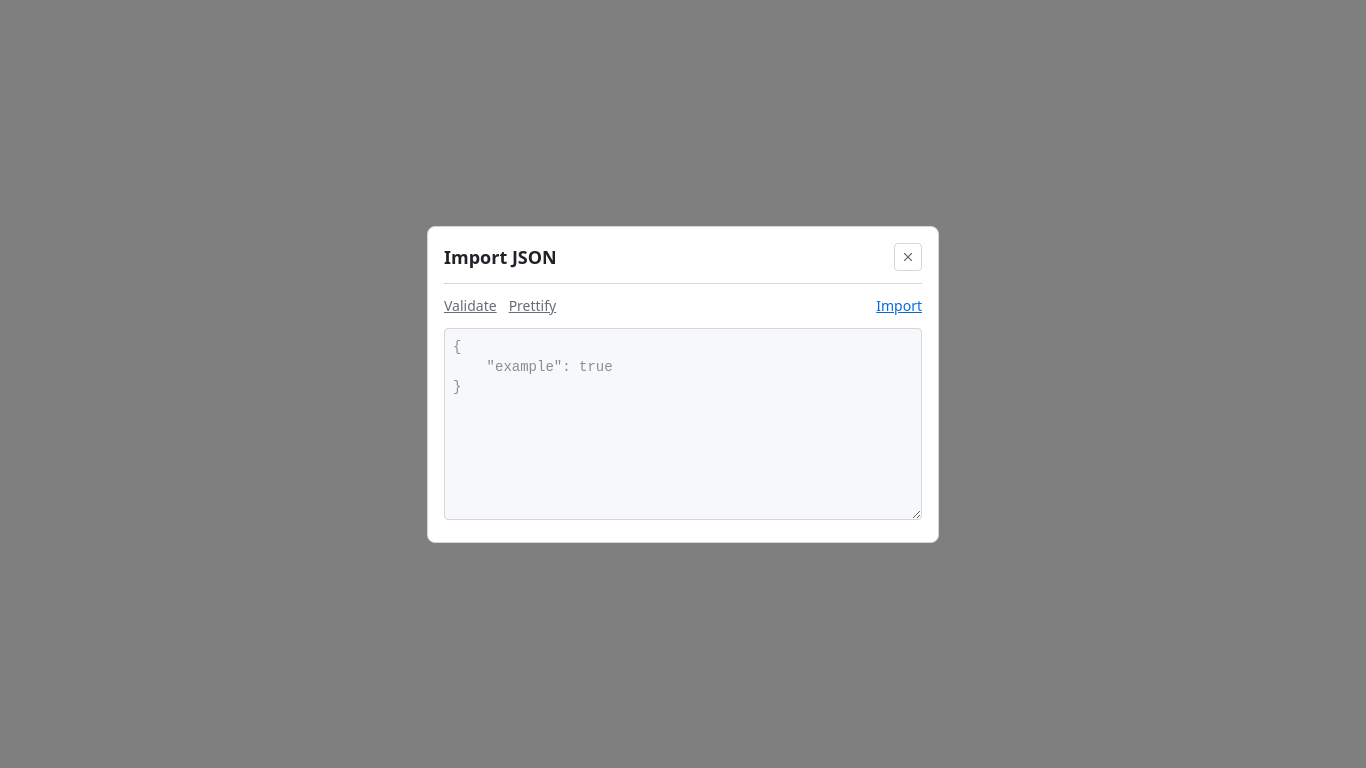
JsonImportModal › shows a success toast and imports valid json
Step 1. Click the text box → x=683, y=424, box [444,328,922,520]
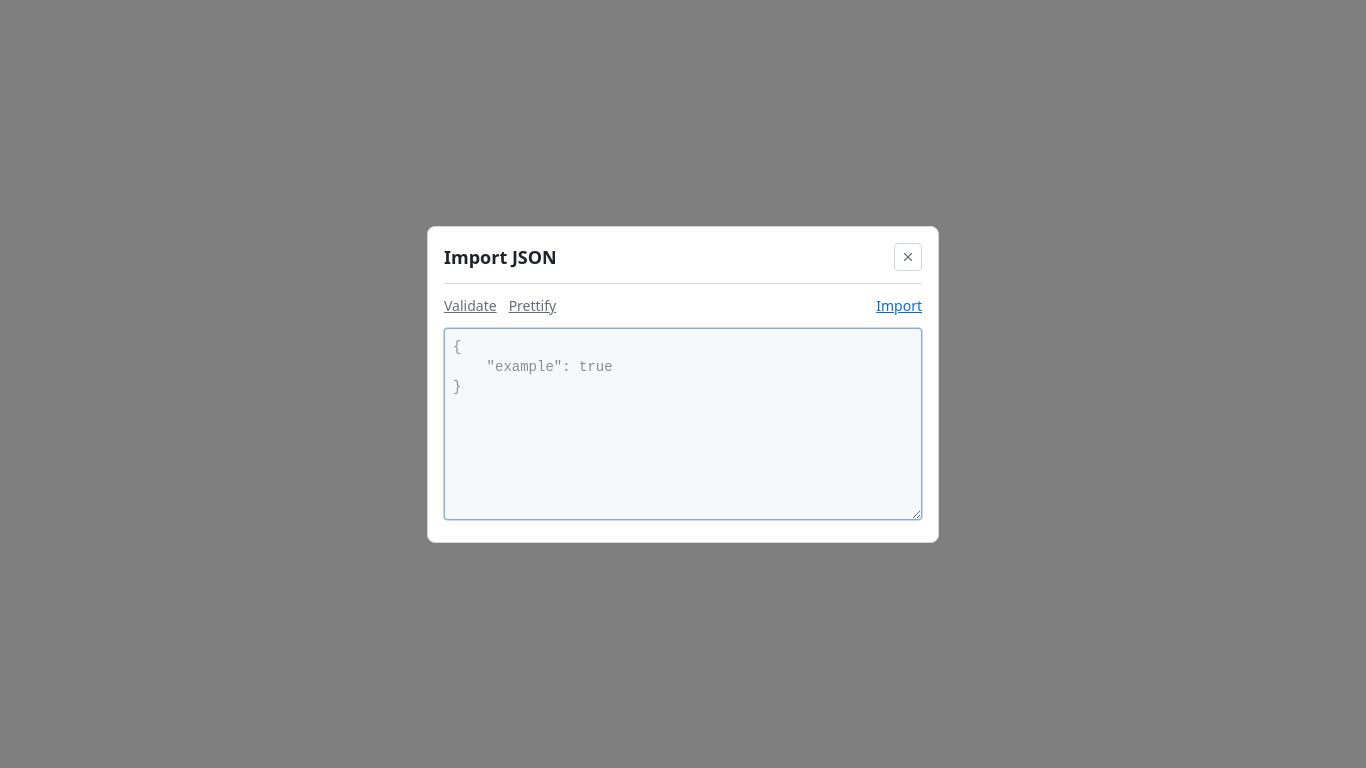
Step 2. Type keys "{\"name\":\"Doggie\"}"
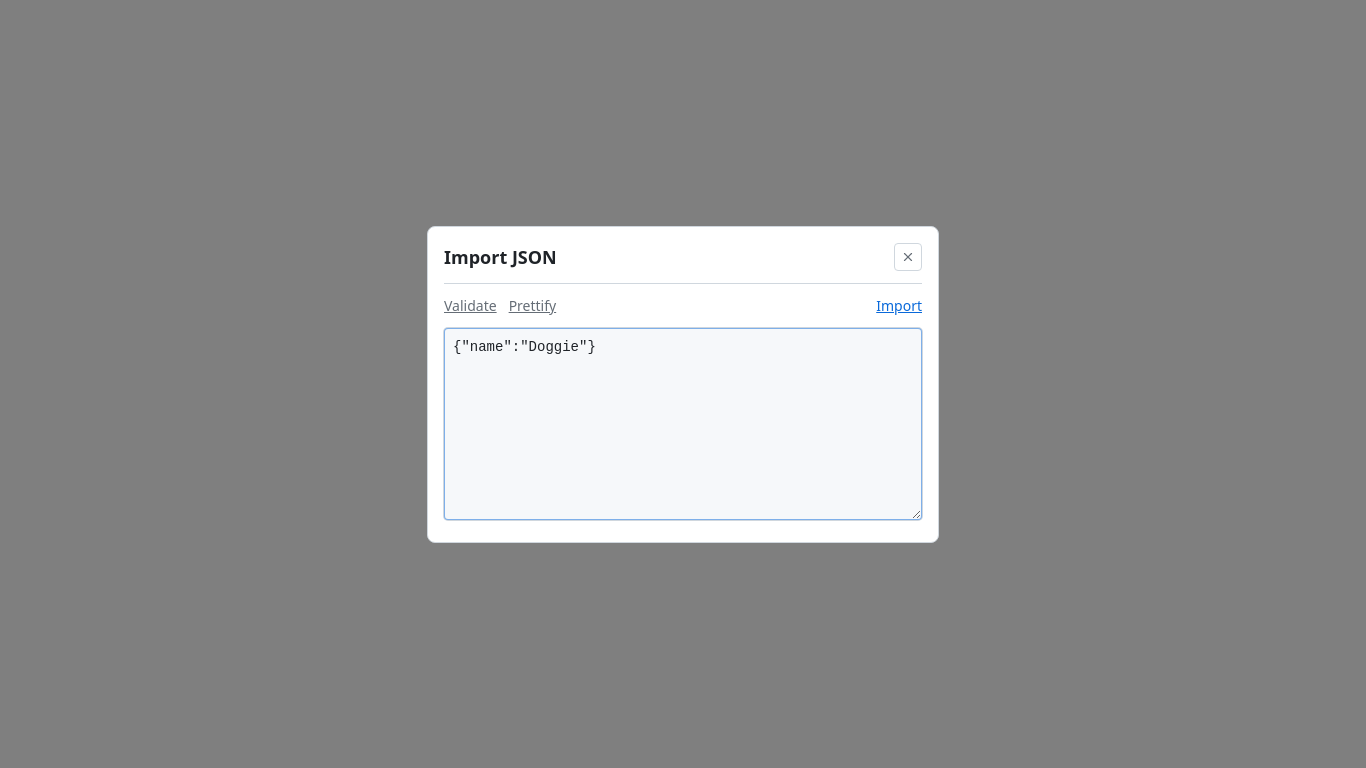
Step 3. Click the button "Import" → x=899, y=306, box [876,296,922,316]
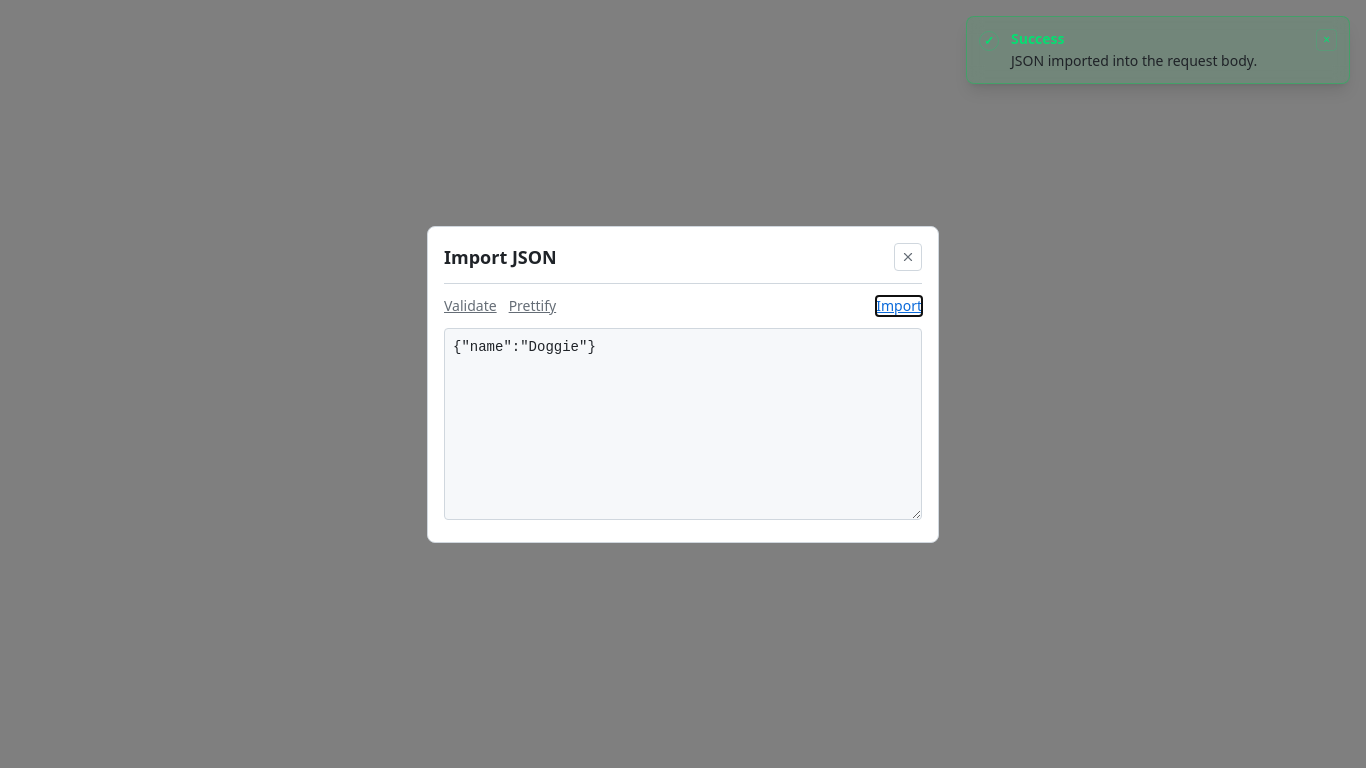
Check: the message shows "JSON imported into the request body.", box [1011,51,1257,70]
